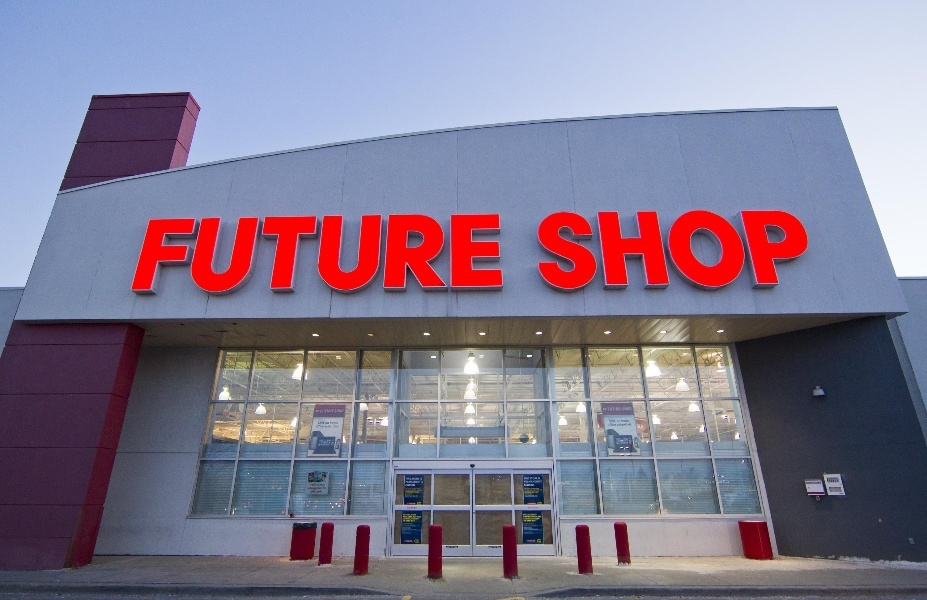text: (545, 209, 560, 294), (561, 209, 576, 294), (577, 209, 592, 294), (593, 209, 608, 294), (609, 209, 624, 294), (625, 209, 640, 294), (641, 209, 656, 294), (657, 209, 672, 294), (673, 209, 688, 294), (689, 209, 704, 294), (705, 209, 720, 294), (721, 209, 736, 294), (737, 209, 752, 294), (753, 209, 768, 294), (769, 209, 784, 294), (785, 209, 800, 294), (801, 209, 816, 294), (161, 214, 176, 293), (177, 214, 192, 293), (193, 214, 208, 293), (209, 214, 224, 293), (225, 214, 240, 293), (241, 214, 256, 293), (257, 214, 272, 293), (273, 214, 288, 293), (289, 214, 304, 293), (305, 214, 320, 293), (321, 214, 336, 293), (337, 214, 352, 293), (353, 214, 368, 293), (369, 214, 384, 293), (385, 214, 400, 293), (401, 214, 416, 293), (417, 214, 432, 293), (433, 214, 448, 293), (449, 214, 464, 293), (465, 214, 480, 293), (481, 214, 496, 293), (150, 214, 160, 293), (537, 209, 544, 294), (497, 214, 504, 293), (403, 513, 416, 523), (529, 514, 542, 523), (529, 488, 542, 495), (817, 209, 818, 294), (405, 488, 416, 495), (321, 409, 336, 413), (307, 487, 320, 491), (609, 407, 622, 411), (523, 514, 528, 523), (309, 483, 320, 487), (322, 487, 336, 490), (417, 488, 423, 495), (530, 477, 544, 480), (310, 490, 320, 494), (417, 513, 421, 523), (529, 481, 542, 484), (324, 425, 336, 428), (420, 478, 432, 481), (325, 422, 336, 425), (405, 495, 416, 498), (405, 484, 416, 487), (405, 481, 416, 484), (405, 478, 416, 481), (616, 423, 624, 427), (314, 486, 320, 491), (337, 409, 344, 413), (524, 488, 528, 495), (636, 423, 640, 430), (625, 407, 632, 411), (609, 423, 616, 427), (625, 423, 632, 427), (529, 495, 538, 498), (330, 421, 336, 425), (616, 420, 624, 423), (417, 481, 424, 484), (641, 423, 644, 430), (609, 420, 616, 423), (321, 421, 326, 425), (321, 483, 326, 487), (315, 490, 320, 494), (411, 477, 416, 481), (625, 419, 630, 423), (538, 477, 544, 480), (529, 484, 535, 487), (316, 483, 320, 487), (316, 425, 320, 428), (417, 477, 420, 481), (524, 477, 528, 480), (524, 481, 528, 484), (524, 484, 528, 487), (621, 419, 624, 423), (321, 425, 324, 428), (525, 495, 528, 498), (318, 421, 320, 425), (337, 421, 339, 425), (321, 490, 323, 494), (622, 407, 624, 411), (337, 425, 339, 428), (417, 495, 419, 498), (321, 486, 322, 491), (335, 409, 336, 413), (319, 483, 320, 487), (607, 407, 608, 411), (607, 423, 608, 427), (529, 477, 530, 480)
